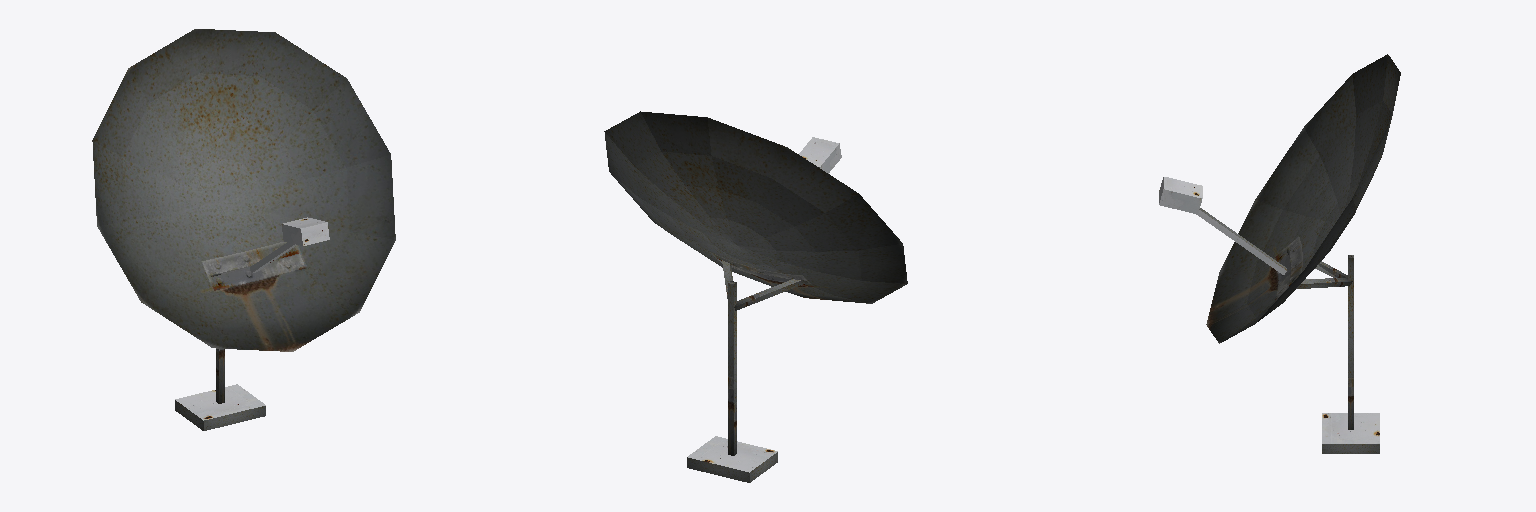
3 renders of one model, left to right at view 1: azimuth 30°, elevation 25°; view 2: azimuth 150°, elevation 25°; view 3: azimuth 270°, elevation 25°, orthographic.
Visible parts, largest first — view 1: satelliteDish_1; view 2: satelliteDish_1; view 3: satelliteDish_1.
Part boxes in pixels (bbox=[...]): satelliteDish_1: bbox=[92, 29, 395, 430]; satelliteDish_1: bbox=[604, 111, 907, 482]; satelliteDish_1: bbox=[1159, 54, 1400, 453].
Bounding box in the file's own units: 0.8 × 0.9514 × 0.5707.
Materials: 1 (1 with a texture image).